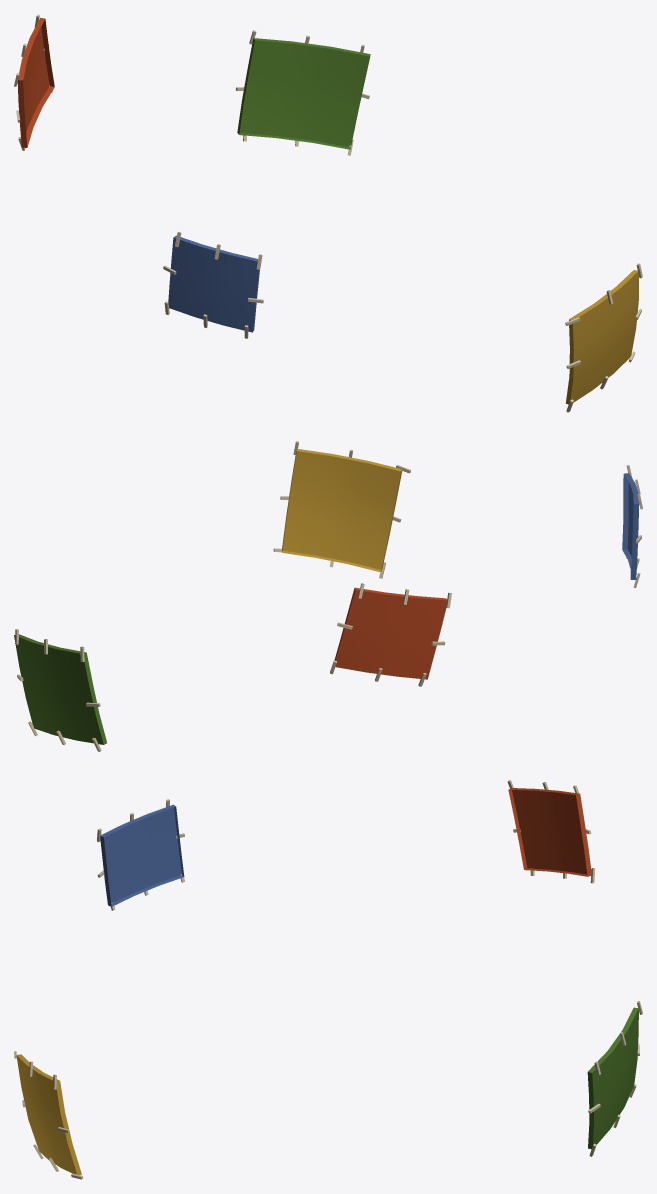
Rendered from cos_l_patched.glb.
The picture shows the model from 3 angles, top to bottom: view 1: azimuth 30°, elevation 25°; view 2: azimuth 150°, elevation 25°; view 3: azimuth 270°, elevation 25°; orthographic projection. The views are drawn at different scales.
Visible parts, largest first — view 1: l_patched; view 2: l_patched; view 3: l_patched.
Part boxes in pixels (x1,y1,x2,y2): l_patched: [14, 14, 642, 412]; l_patched: [14, 441, 642, 751]; l_patched: [14, 780, 642, 1179].
Size of the model in its own units: 0.7778 by 0.459 by 1.04.
